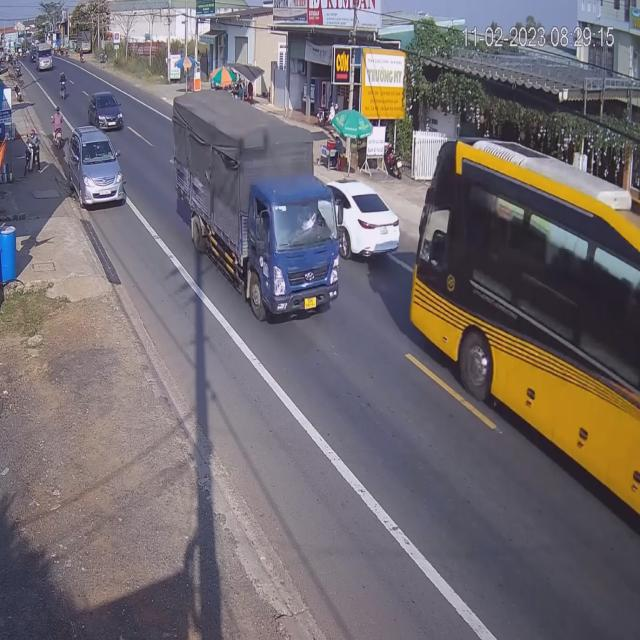bus: (414, 131, 640, 582), (37, 47, 53, 75)
car: (67, 125, 124, 208), (89, 91, 124, 132)
truck: (176, 97, 347, 326), (332, 174, 401, 266)
